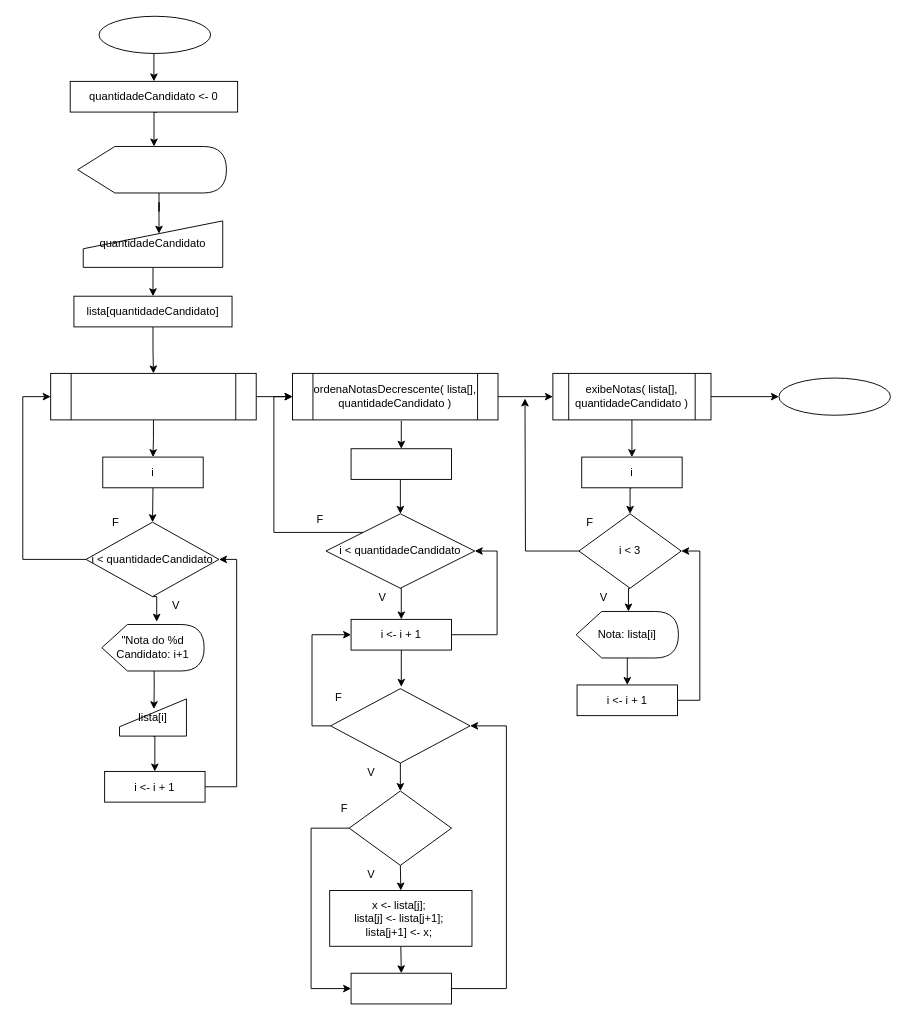
Some shapes in this 907 by 1020 pixel diagram are drawn without their labels. Here are the shapes that lost their labels. From the top down, the centre of each, then its label:
At point (154, 34): "Início".
At point (151, 169): "Quantidade de candidatos que participaram do concurso?".
At point (153, 396): "preencheQuantidadeCandidato( lista[], quantidadeCandidato )".
At point (834, 396): "Fim".
At point (401, 463): "i, j".
At point (400, 725): "j < quantidadeCandidato-i".
At point (400, 827): "lista[j] < lista[j+1]".
At point (401, 988): "j <- j + 1".
